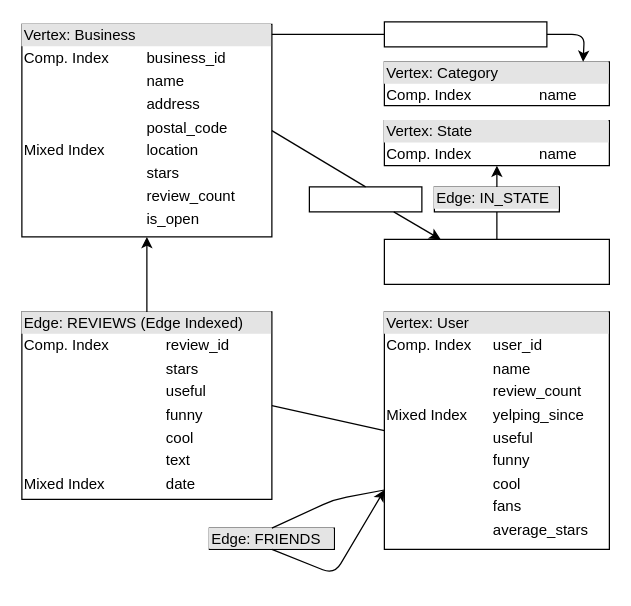
Some shapes in this 631 by 606 pixel diagram are drawn without their labels. The centre of each missing label's shape, as x and y in pixels:
Edge: IN_CATEGORY: point (465, 34)
Edge: IN_CITY: point (365, 199)
Vertex: City Comp. Index name: point (496, 261)
